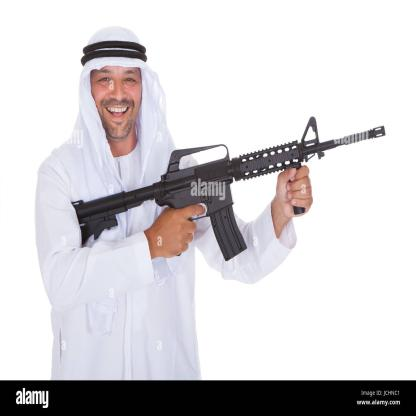handgun: (75, 113, 385, 260)
